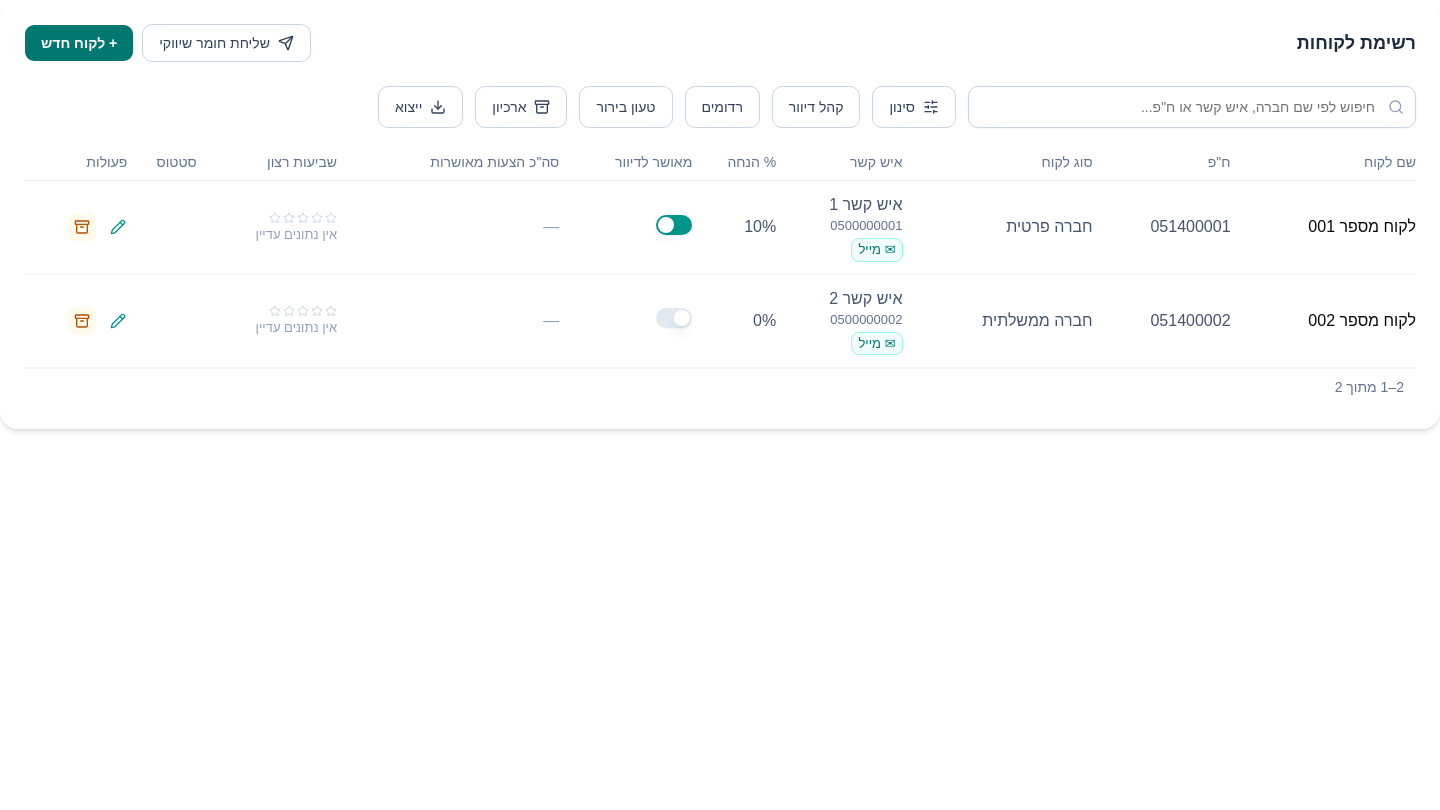
Test case: CustomersPage — חיבור לחלון-הייצוא › 🔴 בעוד ההכנסות בדרך — החלון בטעינה והייצוא מנוטרל, כדי שלא יירד קובץ עם עמודת-כסף ריקה
Click the button with test id "customers-export-button" at (421, 107), box [378,86,463,128]
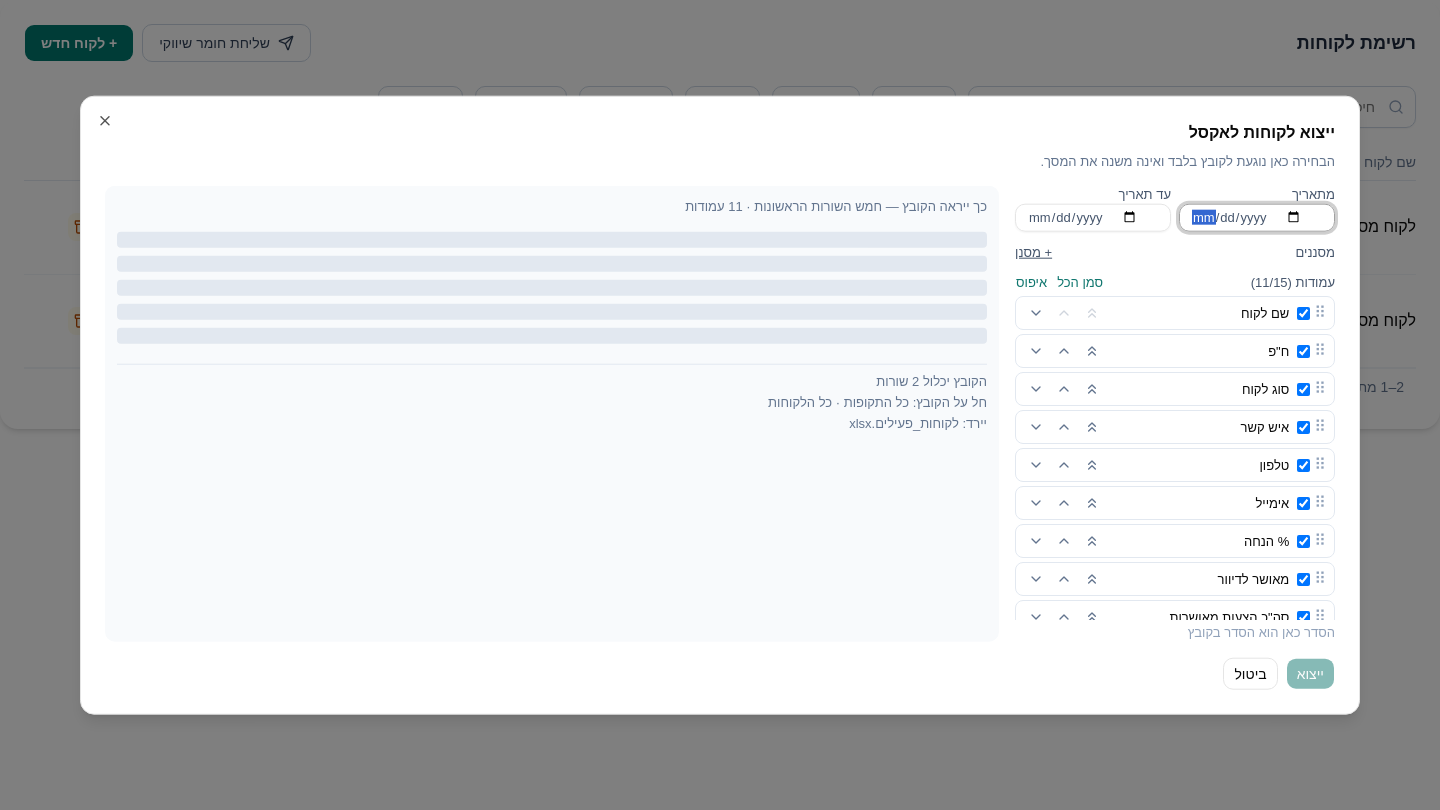
expect the button with test id "export-dialog-run" is disabled: met, box [1286,657,1335,689]
